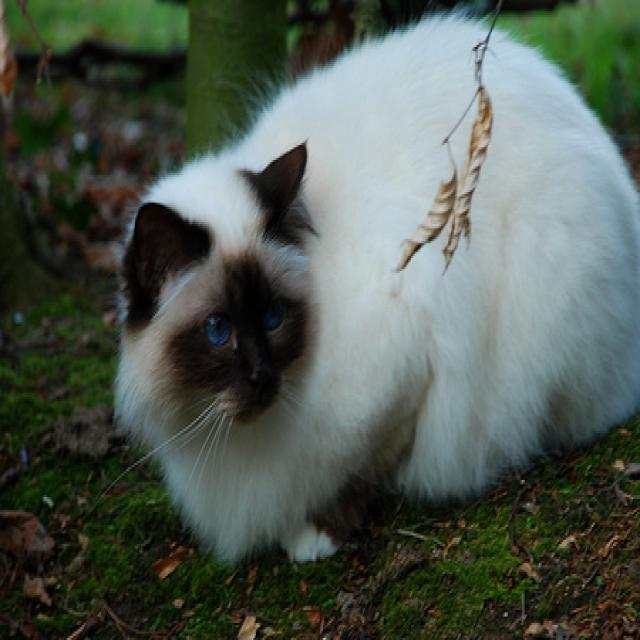Birman: (111, 12, 640, 554)
